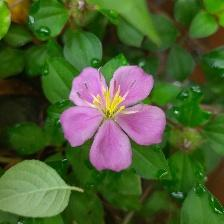malabar melastome: (61, 65, 169, 173)
